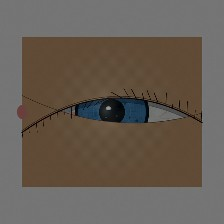hemorrhage_spot: (52, 91, 139, 161)
